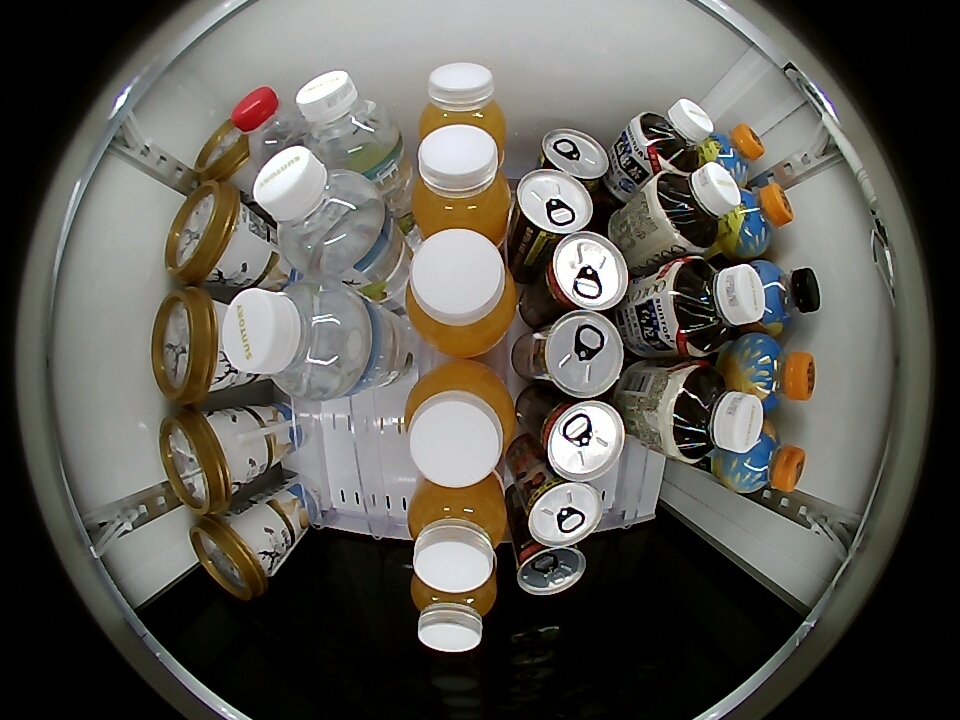guolicheng: (730, 333, 816, 408), (724, 421, 806, 494), (722, 183, 793, 259), (702, 124, 765, 187)
guolicheng2: (749, 263, 821, 333)
lujiaoxiang: (159, 406, 243, 515), (165, 181, 251, 284), (152, 287, 228, 403), (189, 512, 273, 601), (193, 113, 250, 183)
nongfushanquan: (231, 86, 308, 162)
qinningshui: (224, 282, 371, 401), (253, 146, 386, 275), (296, 69, 400, 171)
weic: (402, 361, 517, 488), (404, 229, 518, 356), (407, 474, 508, 594), (411, 124, 513, 241), (419, 62, 507, 151), (411, 569, 498, 653)
wulongcha: (666, 258, 770, 356), (666, 365, 764, 462), (652, 161, 743, 253), (629, 98, 715, 175)
yezhi: (531, 310, 625, 398), (534, 396, 626, 482), (538, 231, 629, 313), (519, 474, 605, 548), (514, 168, 594, 242), (513, 539, 587, 596), (538, 127, 609, 186)
